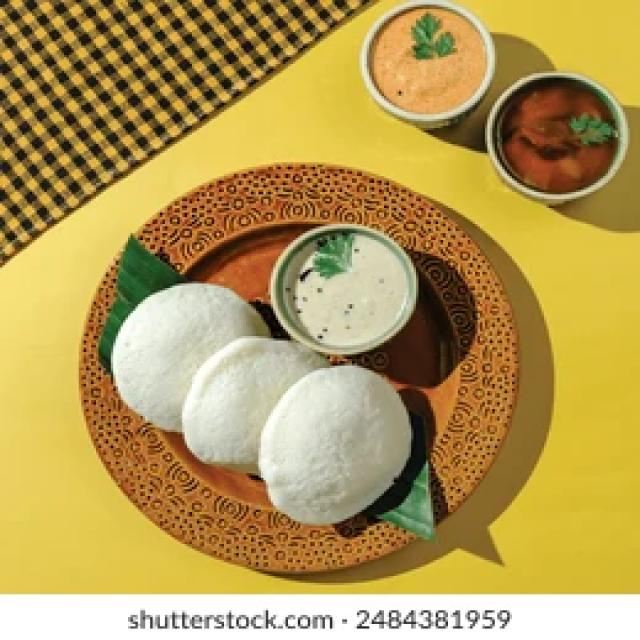IDLI: (258, 366, 411, 523), (111, 283, 268, 430), (182, 336, 325, 473)
